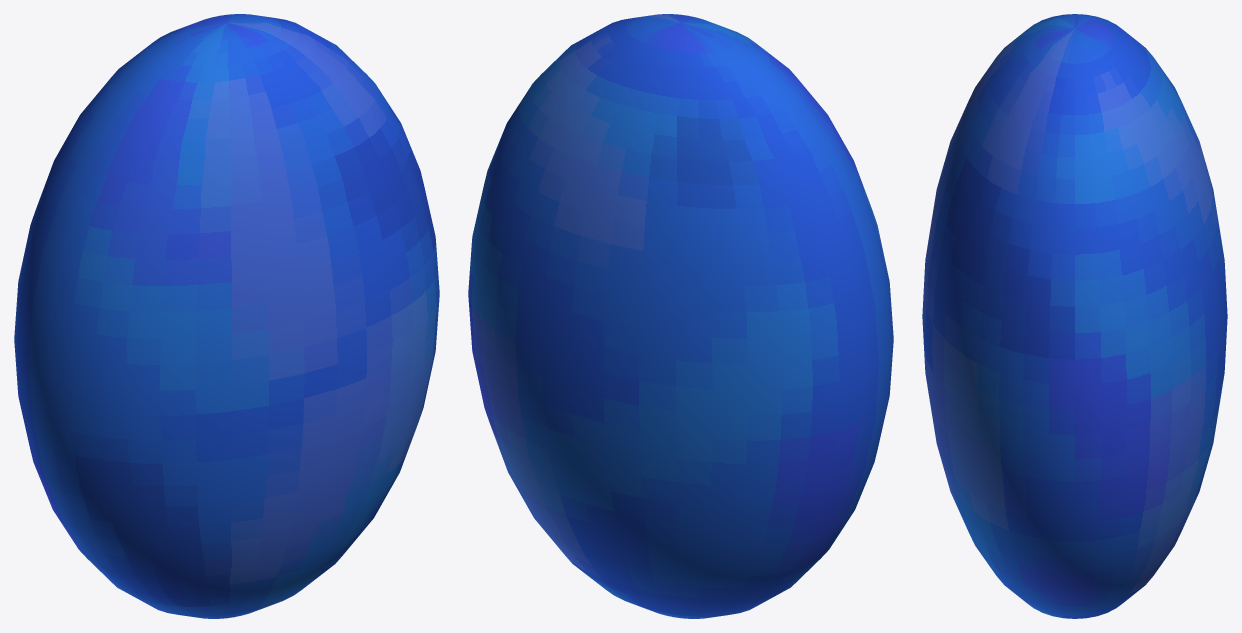
Rendered from portal.obj.
3 views of the same model, side by side, from view 1: azimuth 30°, elevation 25°; view 2: azimuth 150°, elevation 25°; view 3: azimuth 270°, elevation 25° (orthographic).
Visible parts, largest first — view 1: 球; view 2: 球; view 3: 球.
Boxes of the visible parts, x1,y1,x2,y2 form: 球: (14, 14, 439, 618); 球: (468, 14, 893, 618); 球: (922, 14, 1227, 618).
Bounding box in the file's own units: 5.87 × 8.31 × 3.99.
Materials: 1 (1 with a texture image).
